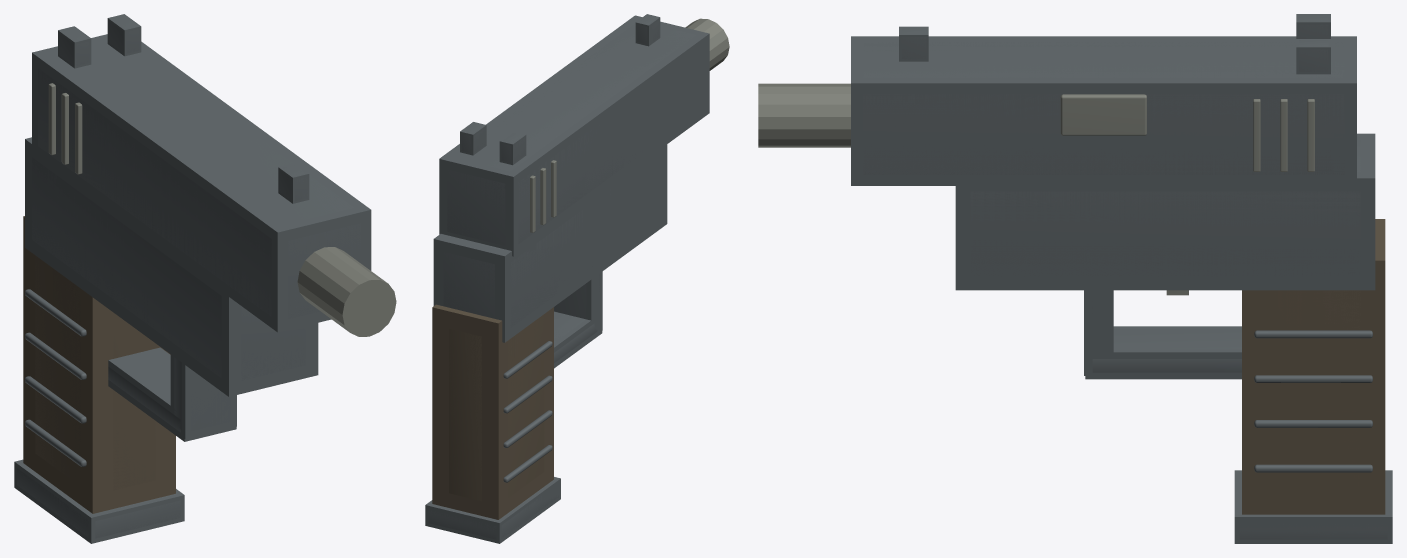
File: ServicePistol.glb
The picture shows the model from 3 angles, left to right: view 1: azimuth 30°, elevation 25°; view 2: azimuth 150°, elevation 25°; view 3: azimuth 270°, elevation 25°; orthographic projection. The views are drawn at different scales.
Parts seen in each view (by area): view 1: LOD0_GunSteel, LOD1_GunSteel, LOD1_GunGrip, LOD0_GunGrip, LOD0_GearSteel, LOD1_GearSteel; view 2: LOD1_GunSteel, LOD0_GunSteel, LOD1_GunGrip, LOD0_GunGrip, LOD0_GearSteel; view 3: LOD1_GunSteel, LOD0_GunSteel, LOD1_GunGrip, LOD0_GearSteel.
Boxes of the visible parts, left/top/right/bottom form: LOD0_GunSteel: left=17, top=15, right=360, bottom=538; LOD1_GunSteel: left=14, top=14, right=371, bottom=543; LOD1_GunGrip: left=23, top=216, right=175, bottom=513; LOD0_GunGrip: left=35, top=255, right=155, bottom=489; LOD0_GearSteel: left=48, top=83, right=396, bottom=336; LOD1_GearSteel: left=343, top=280, right=395, bottom=336; LOD1_GunSteel: left=425, top=14, right=709, bottom=543; LOD0_GunSteel: left=428, top=15, right=695, bottom=539; LOD1_GunGrip: left=432, top=304, right=553, bottom=519; LOD0_GunGrip: left=449, top=314, right=544, bottom=501; LOD0_GearSteel: left=530, top=18, right=729, bottom=232; LOD1_GunSteel: left=851, top=14, right=1392, bottom=543; LOD0_GunSteel: left=863, top=15, right=1387, bottom=539; LOD1_GunGrip: left=1242, top=219, right=1385, bottom=514; LOD0_GearSteel: left=758, top=83, right=1314, bottom=292.
Bounding box in the file's own units: 0.049 × 0.219 × 0.257.
